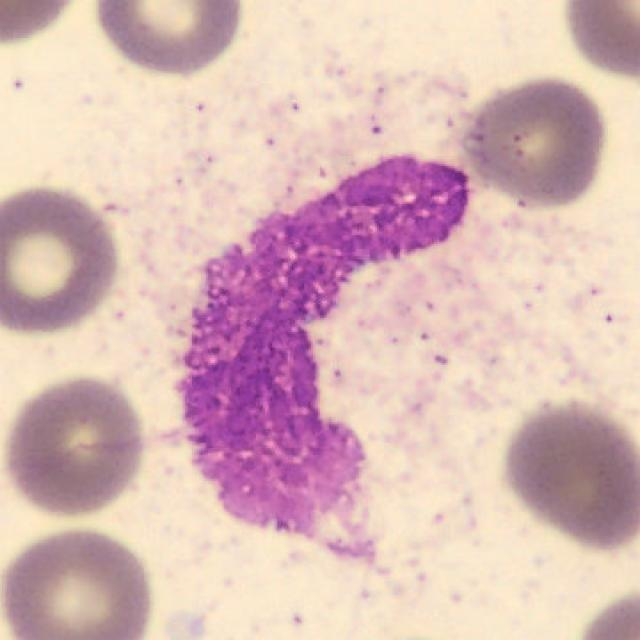Restos celulares: (183, 157, 469, 562)
